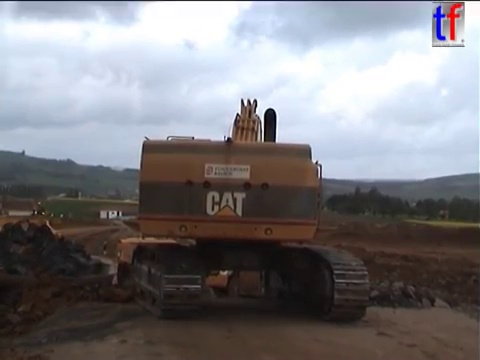excavator: (110, 95, 374, 325)
truck: (1, 214, 123, 342), (102, 233, 207, 320), (199, 234, 316, 305)
